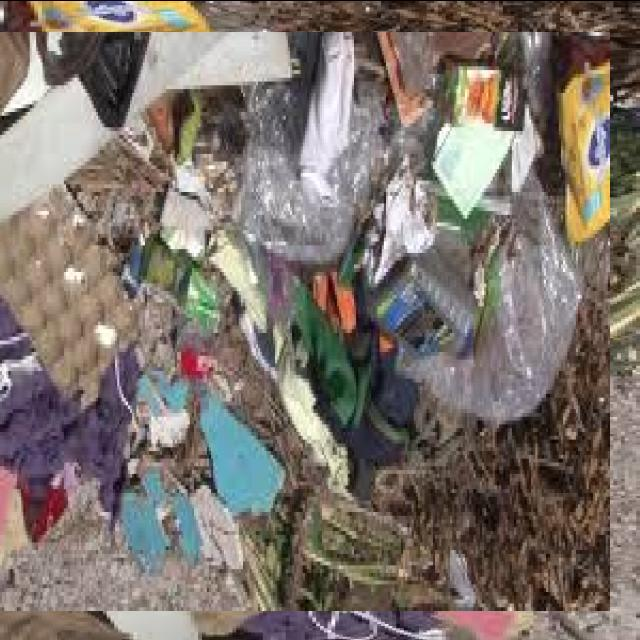garbage: (0, 15, 595, 625)
